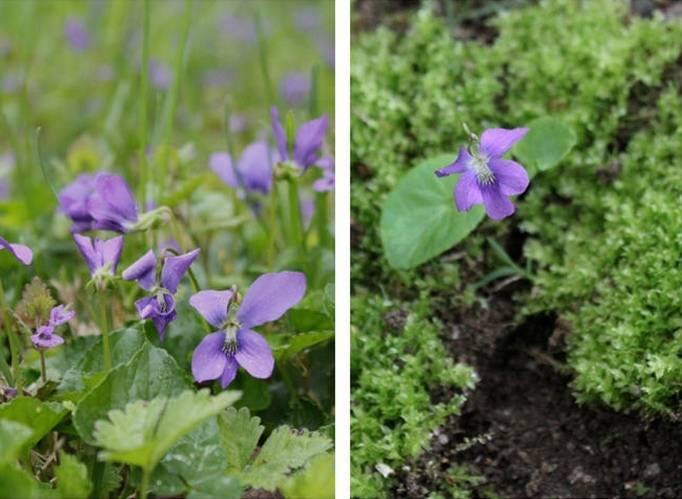violet: (183, 268, 309, 386), (424, 123, 538, 224), (49, 166, 166, 236), (134, 237, 192, 338), (69, 228, 140, 309)
